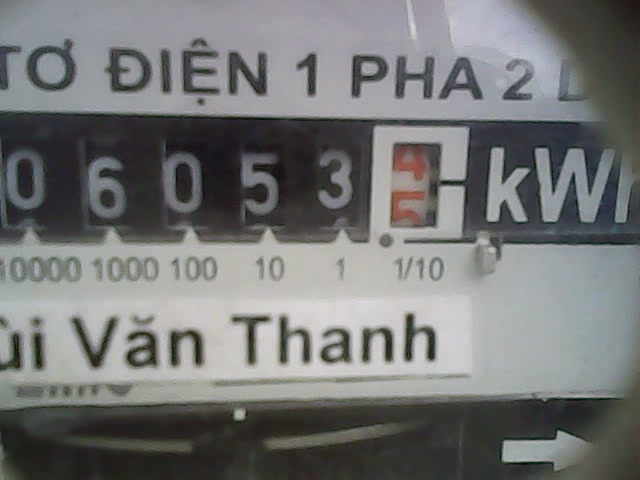phy_plate: (1, 110, 476, 247)
